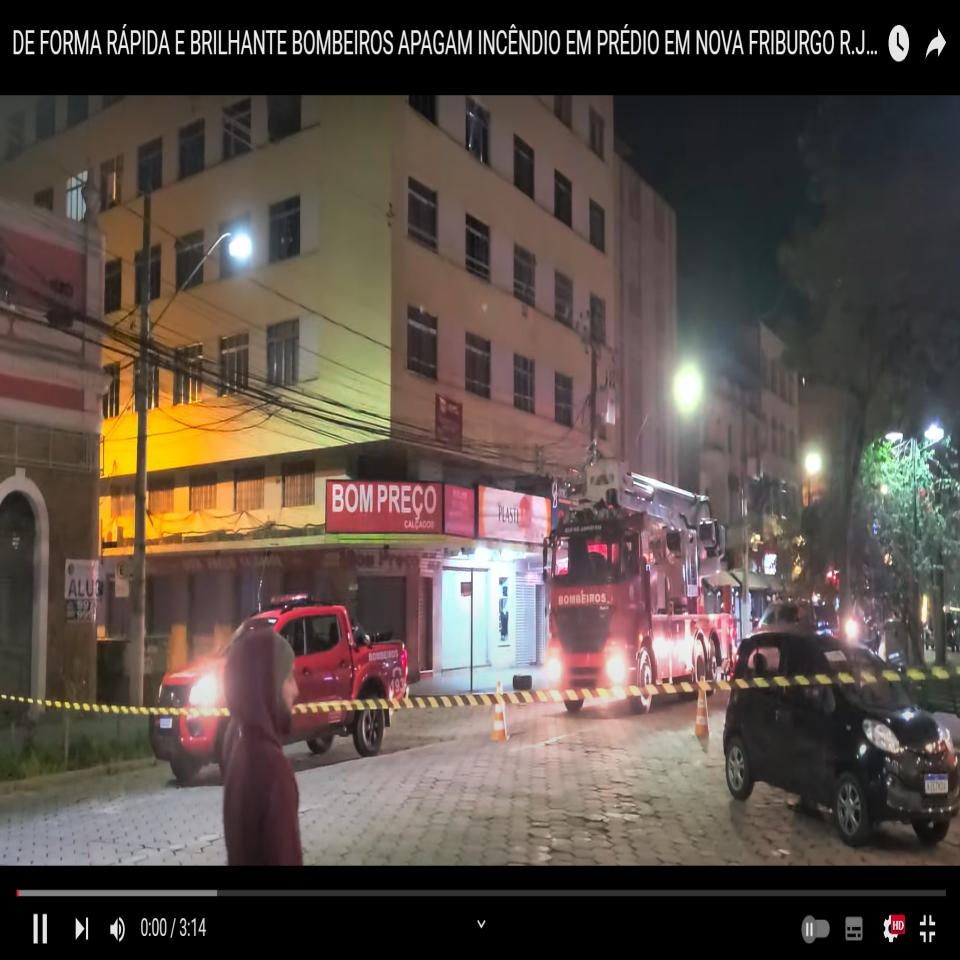viatura: (537, 471, 737, 683)
